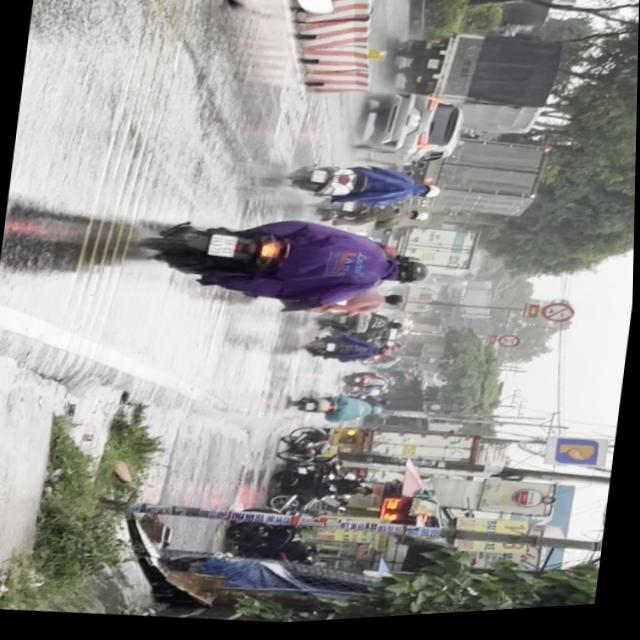helmet: (388, 259, 434, 291)
licenseplate: (129, 198, 441, 332), (31, 0, 524, 45)
nohelmet: (209, 234, 240, 261)
